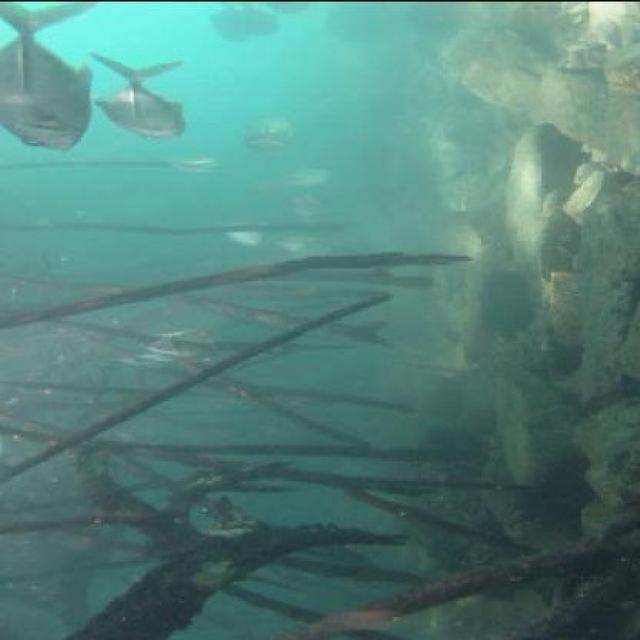Caranx_sexfasciatus_juvenile: (2, 0, 98, 154), (92, 50, 192, 144)
